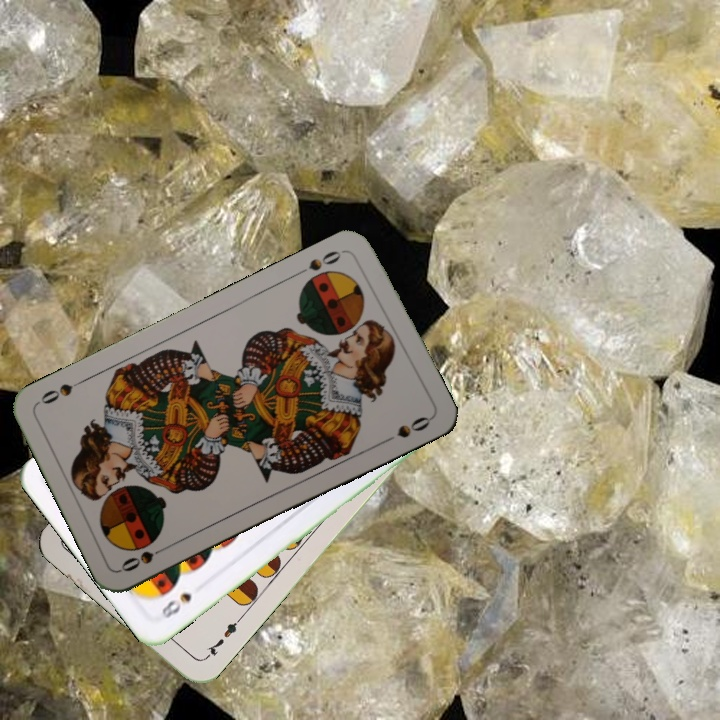E7: (201, 614, 244, 662)
S8: (157, 588, 195, 621)
SO: (117, 540, 172, 575), (294, 245, 351, 277)
